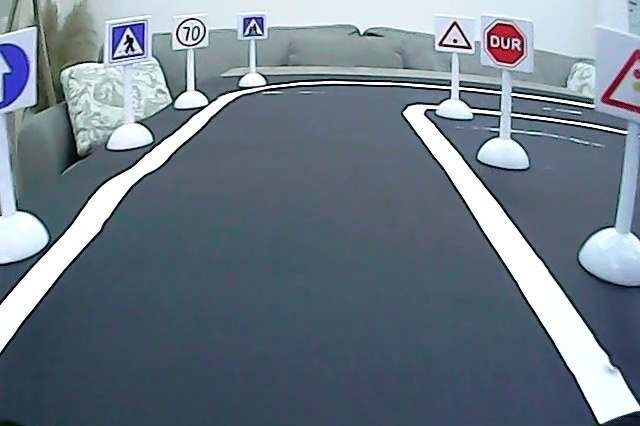green light: (436, 18, 474, 53)
pedestrian crossing: (109, 19, 149, 65)
school crossing: (241, 14, 265, 38)
speed limit 70: (174, 16, 207, 50)
stop sign: (483, 18, 527, 67)
